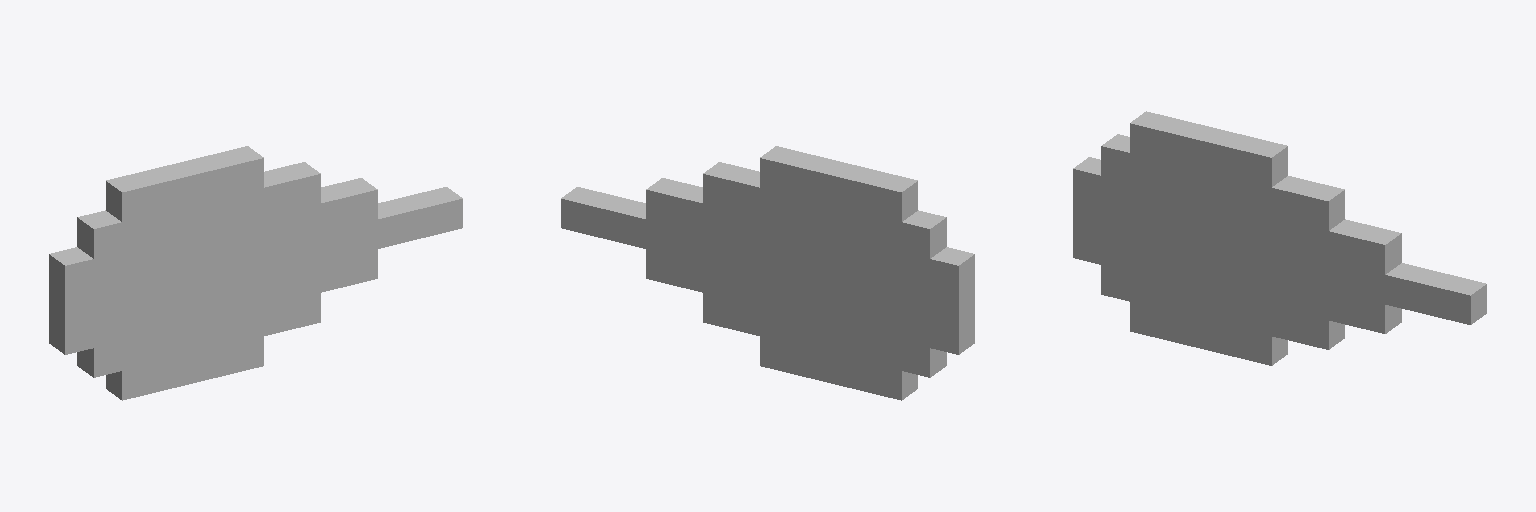
The model's file is Bala-0-ProgetilMago.obj.
The picture shows the model from 3 angles: view 1: azimuth 30°, elevation 25°; view 2: azimuth 150°, elevation 25°; view 3: azimuth 330°, elevation 25°; orthographic projection.
Parts seen in each view (by area): view 1: ProgetilMago; view 2: ProgetilMago; view 3: ProgetilMago.
Part boxes in pixels (x1,y1,x2,y2): ProgetilMago: (49,146,462,400); ProgetilMago: (561,146,974,400); ProgetilMago: (1073,111,1486,365).
Size of the model in its own units: 1.4 by 0.7 by 0.1.